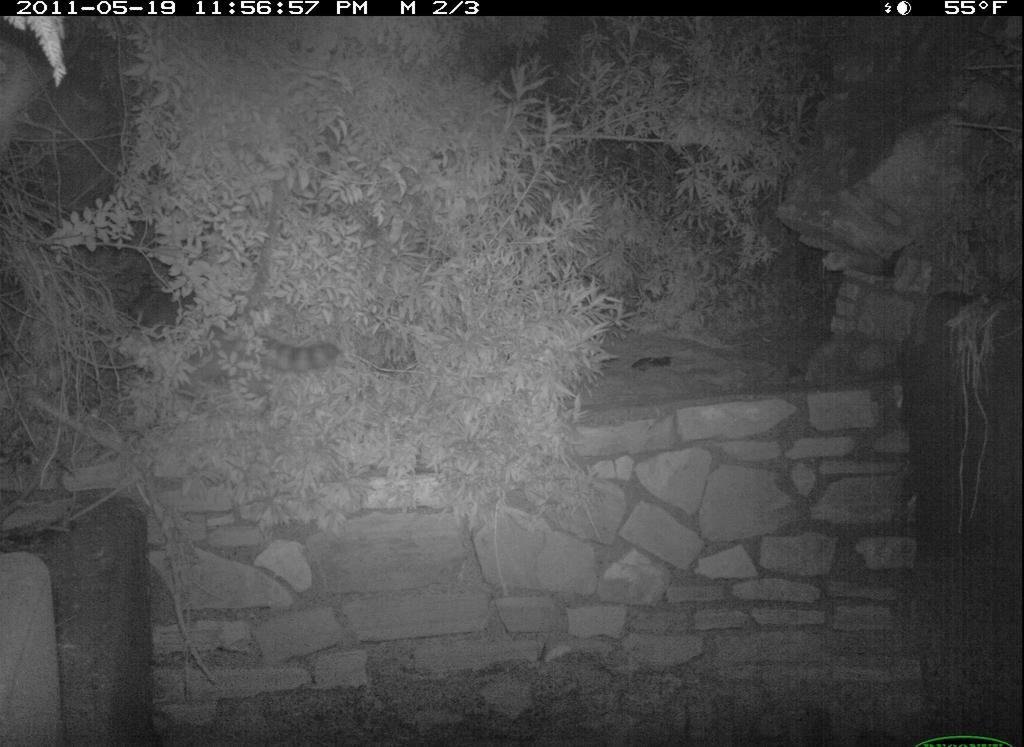raccoon: (109, 286, 358, 427)
